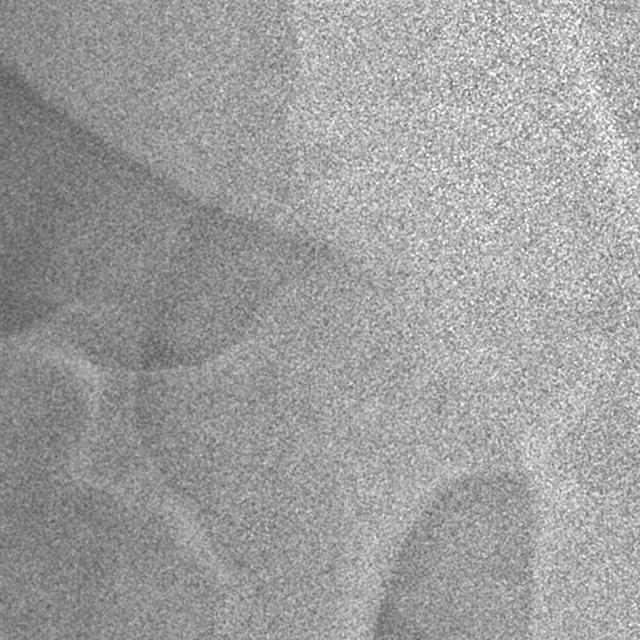Fitted_femural_head: (352, 153, 432, 352)
